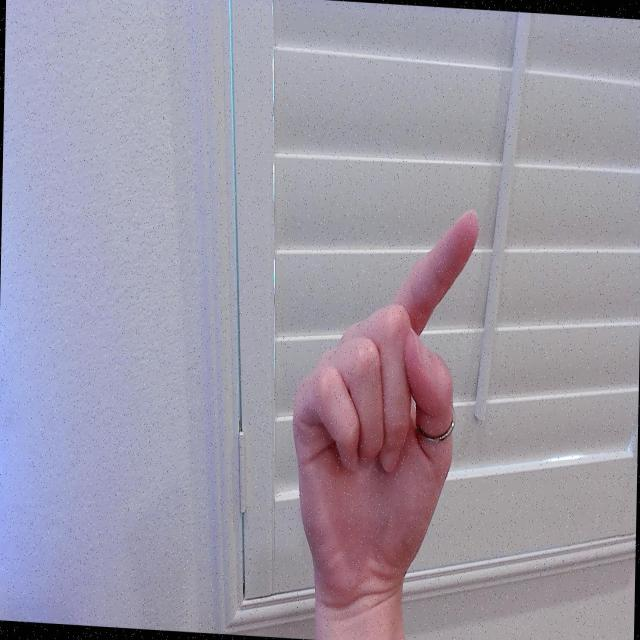Z: (286, 196, 479, 606)
